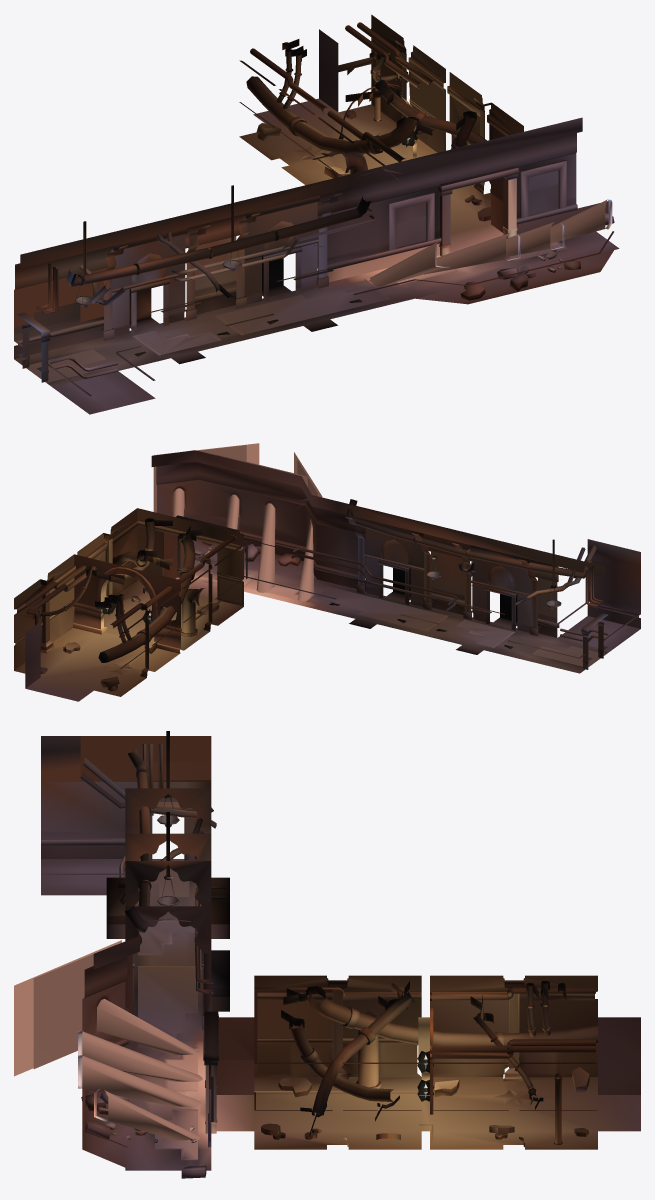
Rendered from 02Elbow.gltf.
3 renders of one model, top to bottom at view 1: azimuth 30°, elevation 25°; view 2: azimuth 150°, elevation 25°; view 3: azimuth 270°, elevation 25°, orthographic. The views are drawn at different scales.
Visible parts, largest first — view 1: stg033_o05_Mesh_0009, stg033_o06_Mesh_0004, stg033_o06_Mesh_0005, stg033_o06_Mesh_0014, stg033_o05_Mesh_0011, stg033_o05_Mesh_0007, stg033_o06_Mesh_0008, stg033_o06_Mesh_0026, stg033_o06_Mesh_0029, stg033_lighting_06_Mesh_0000, stg033_o05_Mesh_0005, stg033_o05_Mesh_0010 (+10 smaller); view 2: stg033_o05_Mesh_0009, stg033_o06_Mesh_0026, stg033_o06_Mesh_0004, stg033_o05_Mesh_0011, stg033_o06_Mesh_0005, stg033_o05_Mesh_0007, stg033_o05_Mesh_0005, stg033_o06_Mesh_0014, stg033_o06_Mesh_0027, stg033_o06_Mesh_0008, stg033_o06_Mesh_0029, stg033_o05_Mesh_0008 (+14 smaller); view 3: stg033_o05_Mesh_0011, stg033_o05_Mesh_0009, stg033_o05_Mesh_0007, stg033_o06_Mesh_0005, stg033_o06_Mesh_0008, stg033_lighting_06_Mesh_0000, stg033_o05_Mesh_0008, stg033_o05_Mesh_0005, stg033_o06_Mesh_0030, stg033_o06_Mesh_0026, stg033_o06_Mesh_0014, stg033_o06_Mesh_0027 (+11 smaller).
Boxes of the visible parts, x1,y1,x2,y2 form: stg033_o05_Mesh_0009: (36, 22, 486, 378); stg033_o06_Mesh_0004: (15, 117, 582, 281); stg033_o06_Mesh_0005: (14, 14, 619, 414); stg033_o06_Mesh_0014: (14, 144, 576, 373); stg033_o05_Mesh_0011: (239, 98, 503, 252); stg033_o05_Mesh_0007: (20, 67, 613, 411); stg033_o06_Mesh_0008: (17, 242, 562, 382); stg033_o06_Mesh_0026: (14, 153, 576, 340); stg033_o06_Mesh_0029: (111, 202, 317, 327); stg033_lighting_06_Mesh_0000: (369, 199, 607, 286); stg033_o05_Mesh_0005: (17, 29, 518, 371); stg033_o05_Mesh_0010: (256, 39, 614, 300); stg033_o05_Mesh_0009: (24, 499, 608, 662); stg033_o06_Mesh_0026: (157, 480, 640, 623); stg033_o06_Mesh_0004: (151, 450, 640, 577); stg033_o05_Mesh_0011: (14, 577, 243, 701); stg033_o06_Mesh_0005: (14, 508, 640, 673); stg033_o05_Mesh_0007: (14, 540, 632, 688); stg033_o05_Mesh_0005: (15, 517, 607, 666); stg033_o06_Mesh_0014: (156, 473, 640, 666); stg033_o06_Mesh_0027: (14, 485, 640, 674); stg033_o06_Mesh_0008: (194, 561, 605, 666); stg033_o06_Mesh_0029: (365, 528, 531, 625); stg033_o05_Mesh_0008: (14, 526, 603, 681); stg033_o05_Mesh_0011: (216, 1077, 640, 1149); stg033_o05_Mesh_0009: (79, 743, 597, 1145); stg033_o05_Mesh_0007: (41, 859, 640, 1170); stg033_o06_Mesh_0005: (41, 859, 597, 1170); stg033_o06_Mesh_0008: (85, 736, 205, 1158); stg033_lighting_06_Mesh_0000: (82, 998, 202, 1140); stg033_o05_Mesh_0008: (132, 853, 597, 1136); stg033_o05_Mesh_0005: (132, 811, 640, 1121); stg033_o06_Mesh_0030: (125, 788, 211, 953); stg033_o06_Mesh_0026: (41, 781, 211, 1042); stg033_o06_Mesh_0014: (41, 736, 213, 1160); stg033_o06_Mesh_0027: (41, 830, 597, 1140).
Size of the model in its own units: 90.73 by 20.47 by 72.96.
